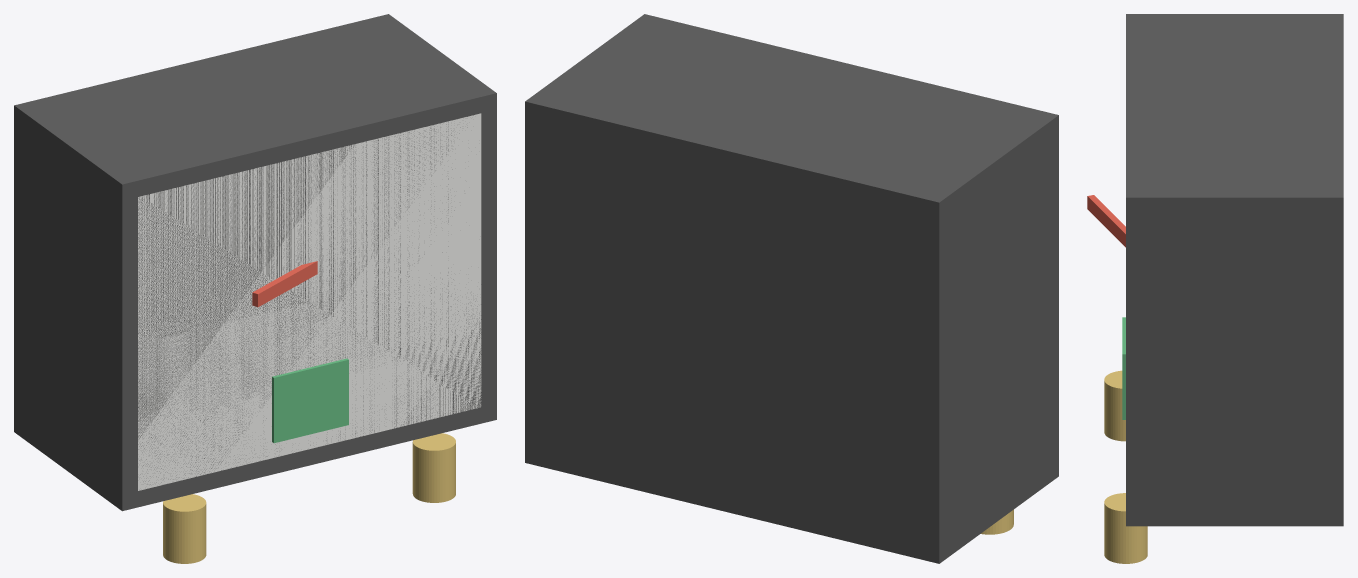
The model's file is ammeter.glb.
3 renders of one model, left to right at view 1: azimuth 30°, elevation 25°; view 2: azimuth 150°, elevation 25°; view 3: azimuth 270°, elevation 25°, orthographic. The views are drawn at different scales.
Parts seen in each view (by area): view 1: ammeter-case, ammeter-dial, ammeter-label, ammeter-terminal-pos, ammeter-terminal-neg, ammeter-needle; view 2: ammeter-case; view 3: ammeter-case, ammeter-terminal-pos, ammeter-terminal-neg, ammeter-needle, ammeter-label.
Boxes of the visible parts, box(x1,y1,x2,y2) form: ammeter-case: box(14, 14, 496, 511); ammeter-dial: box(138, 113, 481, 490); ammeter-label: box(272, 358, 348, 443); ammeter-terminal-pos: box(412, 433, 455, 502); ammeter-terminal-neg: box(163, 494, 206, 563); ammeter-needle: box(252, 261, 317, 307); ammeter-case: box(525, 14, 1058, 563); ammeter-case: box(1126, 14, 1343, 526); ammeter-terminal-pos: box(1104, 493, 1147, 563); ammeter-terminal-neg: box(1104, 370, 1125, 441); ammeter-needle: box(1087, 195, 1125, 247); ammeter-label: box(1122, 317, 1125, 419).
Size of the model in its own units: 0.06 by 0.059 by 0.0353.
